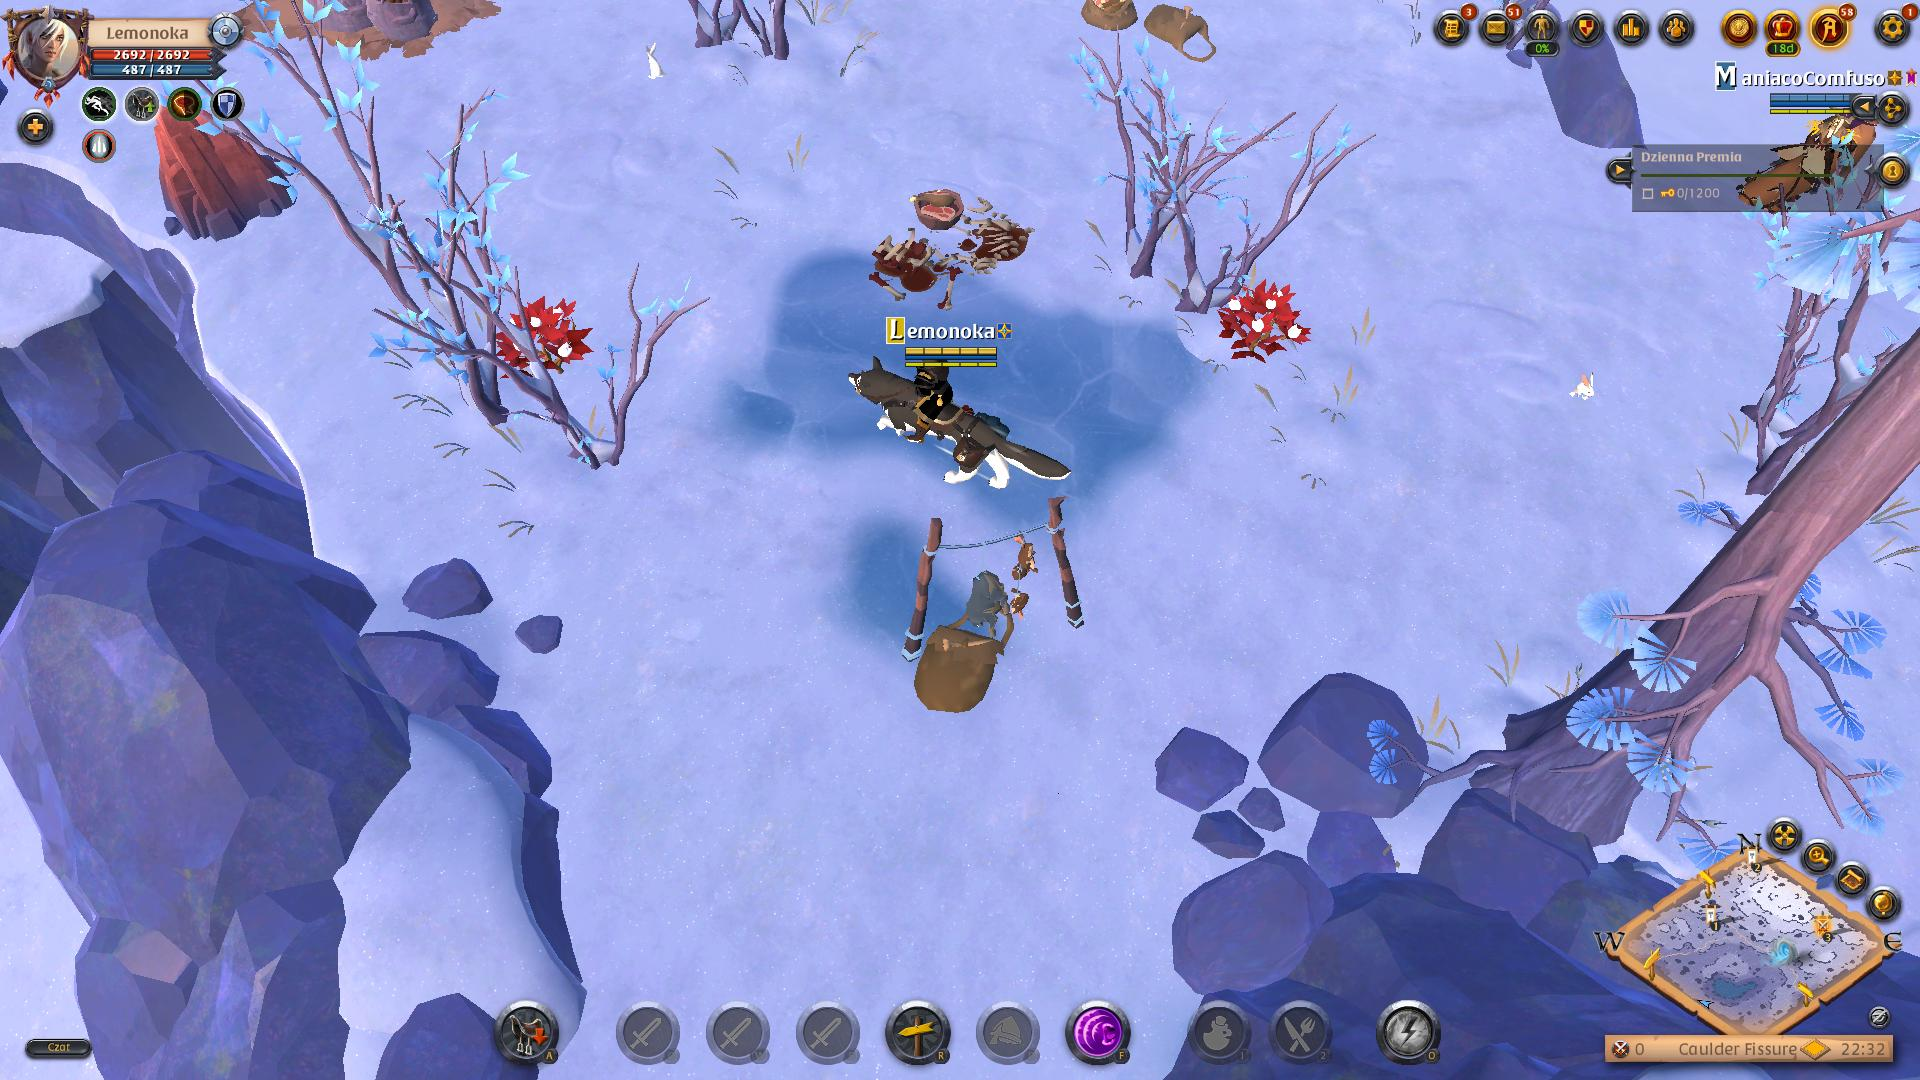fiber tier 5: (1212, 270, 1313, 365), (492, 293, 595, 378)
